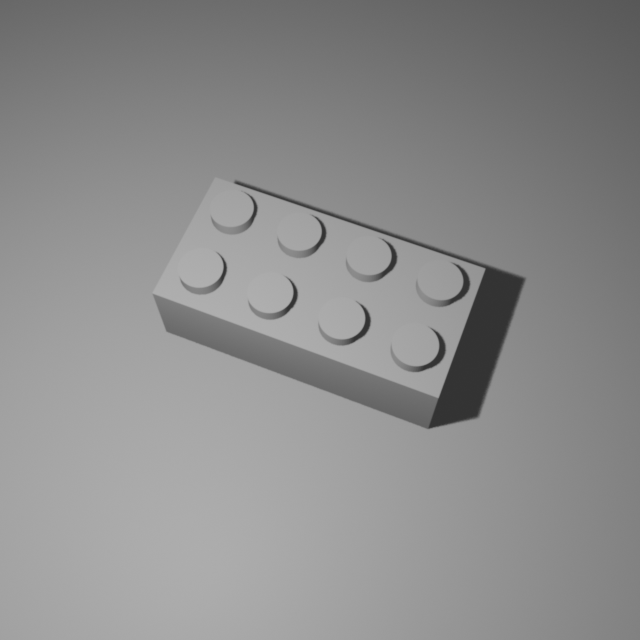lego_2x4: (150, 169, 488, 429)
